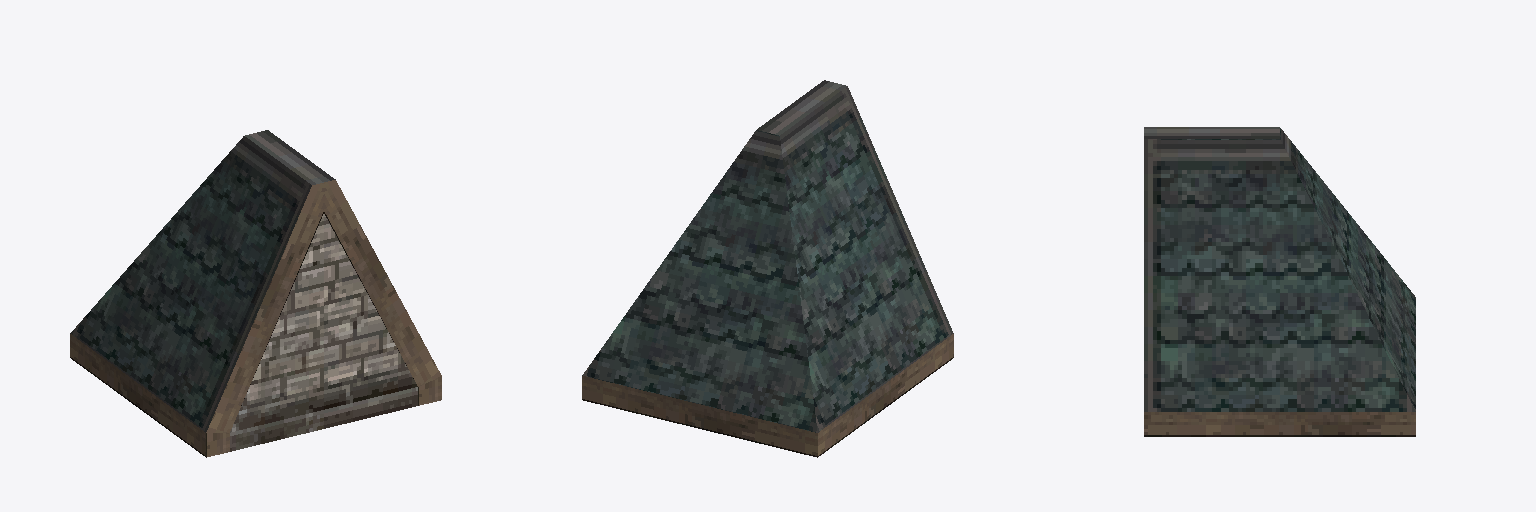
3 views of the same model, side by side, from view 1: azimuth 30°, elevation 25°; view 2: azimuth 150°, elevation 25°; view 3: azimuth 270°, elevation 25° (orthographic).
Parts seen in each view (by area): view 1: roof_edge; view 2: roof_edge; view 3: roof_edge.
Part boxes in pixels (x1,y1,x2,y2): roof_edge: (70,130,441,457); roof_edge: (582,80,953,457); roof_edge: (1144,127,1415,436).
Size of the model in its own units: 1 by 1 by 1.
4 materials, 4 textured.